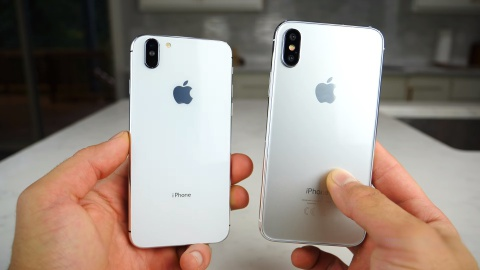apple: (300, 73, 343, 112), (168, 75, 203, 110)
